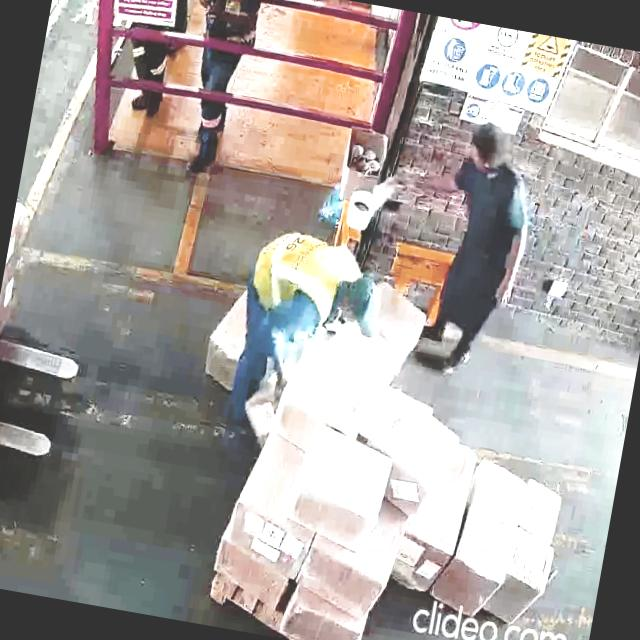Box: (288, 422, 400, 554), (444, 462, 520, 611), (273, 336, 377, 442), (368, 389, 461, 491), (223, 492, 313, 572), (297, 538, 386, 618), (208, 534, 292, 606), (494, 526, 552, 630), (515, 471, 570, 543), (282, 595, 362, 640)
